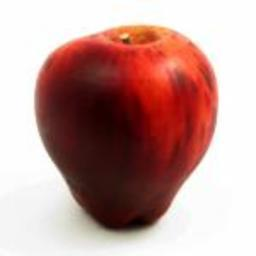apple: (36, 23, 217, 223)
